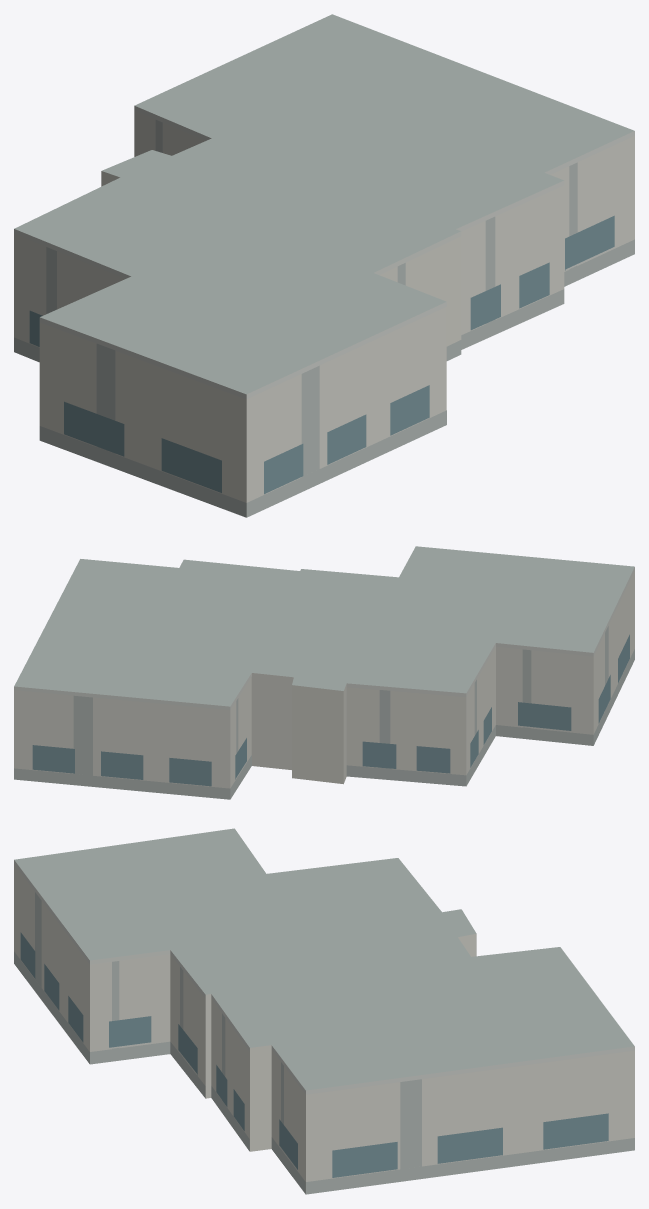
Rendered from survey-upis-32634929.glb.
3 views of the same model, one above another, from view 1: azimuth 30°, elevation 25°; view 2: azimuth 150°, elevation 25°; view 3: azimuth 270°, elevation 25° (orthographic). The views are drawn at different scales.
Parts seen in each view (by area): view 1: survey-upis-32634929.tmp; view 2: survey-upis-32634929.tmp; view 3: survey-upis-32634929.tmp.
Part boxes in pixels (x1,y1,x2,y2): survey-upis-32634929.tmp: (14,14,634,517); survey-upis-32634929.tmp: (14,546,634,799); survey-upis-32634929.tmp: (14,828,634,1194).
Size of the model in its own units: 33.02 by 6.1 by 33.04.
